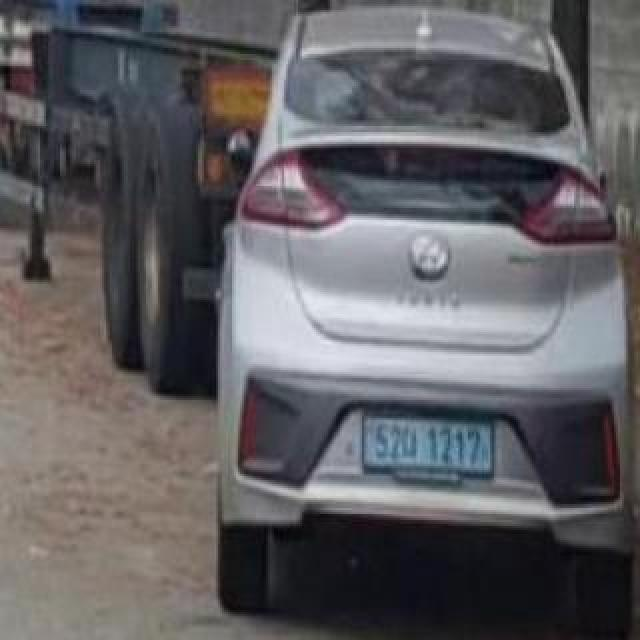EV_plate: (360, 407, 500, 489)
car: (219, 1, 635, 609)
